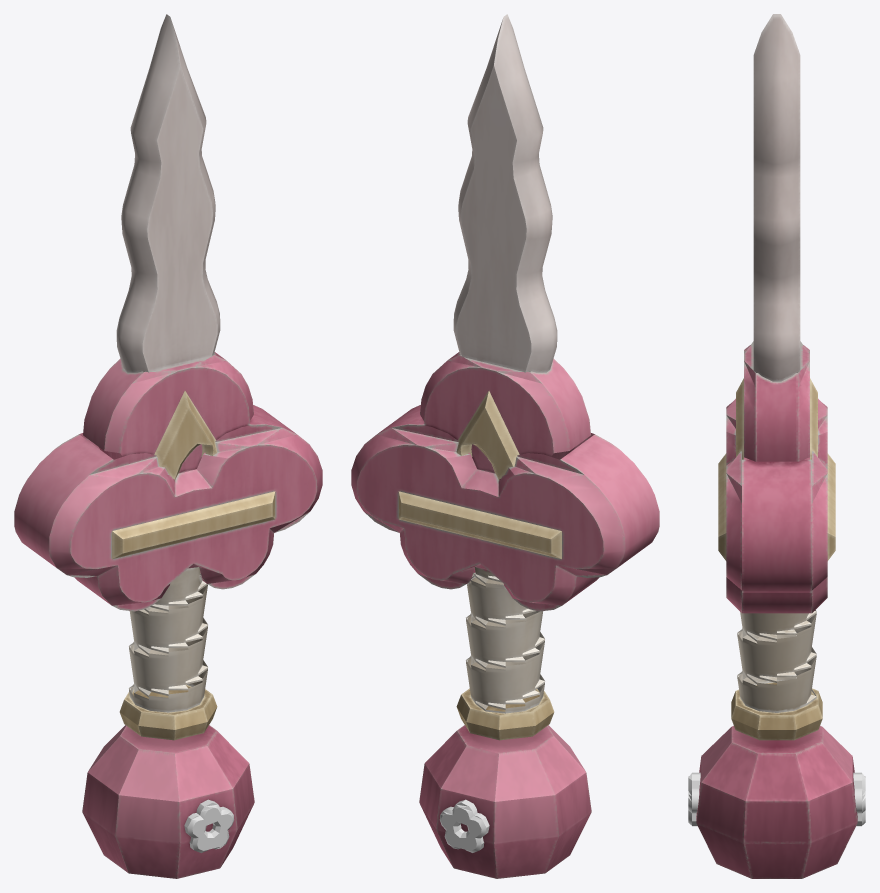
File: Thornkiss.fbx
3 renders of one model, left to right at view 1: azimuth 30°, elevation 25°; view 2: azimuth 150°, elevation 25°; view 3: azimuth 270°, elevation 25°, orthographic.
Visible parts, largest first — view 1: Thornkiss_Body, Thornkiss_Glow; view 2: Thornkiss_Body, Thornkiss_Glow; view 3: Thornkiss_Body, Thornkiss_Glow.
Boxes of the visible parts, x1,y1,x2,y2 form: Thornkiss_Body: (14, 14, 322, 878); Thornkiss_Glow: (184, 799, 234, 852); Thornkiss_Body: (351, 14, 659, 878); Thornkiss_Glow: (439, 799, 489, 852); Thornkiss_Body: (696, 14, 857, 878); Thornkiss_Glow: (688, 772, 865, 826).
Size of the model in its own units: 0.8131 by 2.43 by 0.4539.
